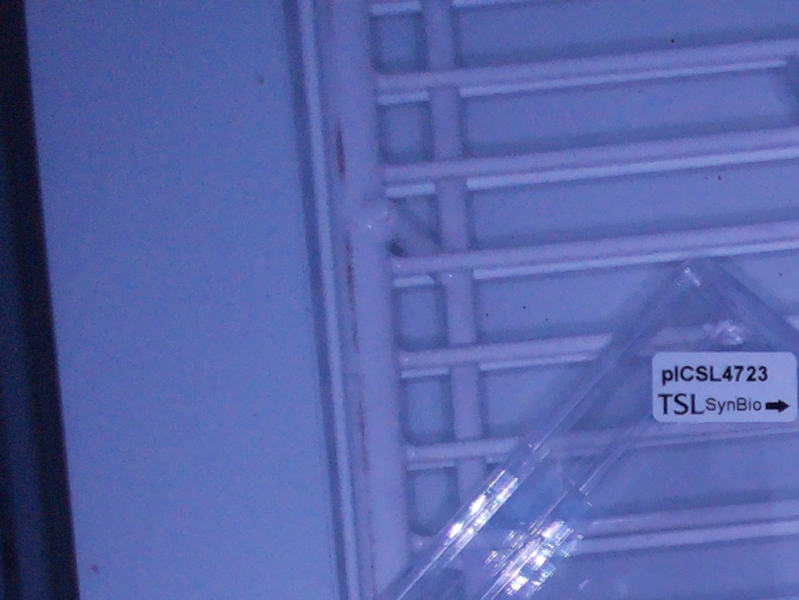plate: (381, 257, 798, 600)
